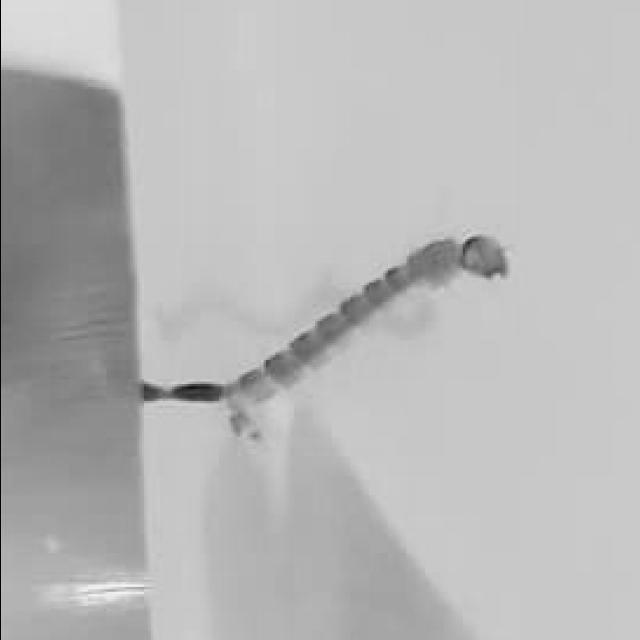larvas: (145, 227, 498, 420)
